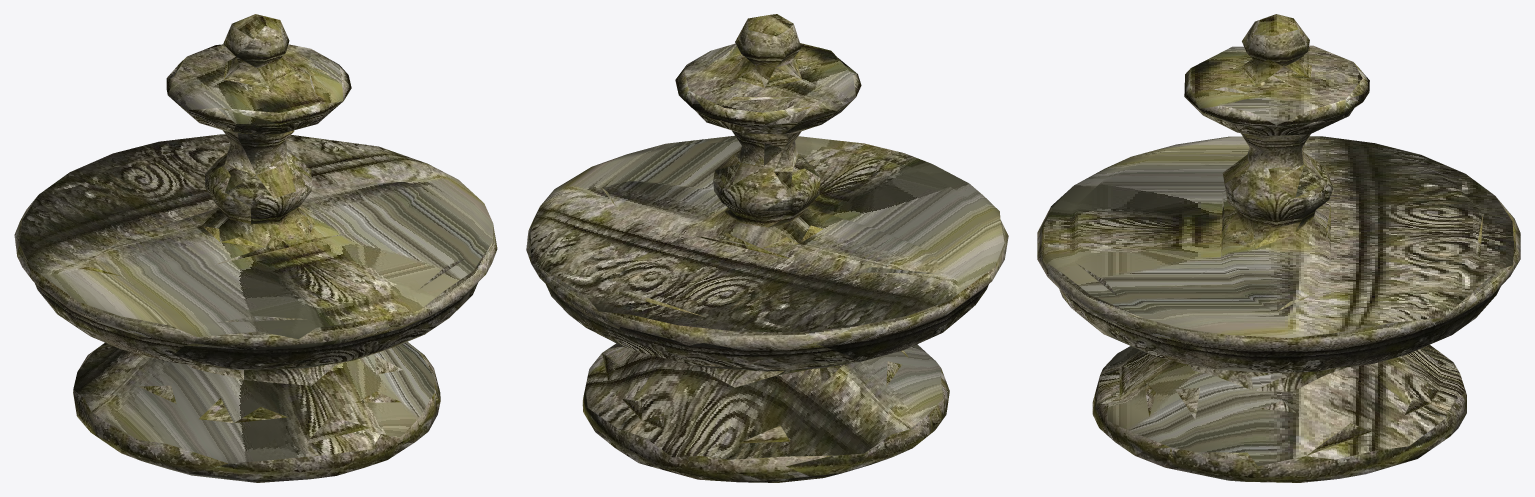
Rendered from fountain_high.glb.
3 views of the same model, side by side, from view 1: azimuth 30°, elevation 25°; view 2: azimuth 150°, elevation 25°; view 3: azimuth 270°, elevation 25° (orthographic).
Parts seen in each view (by area): view 1: fountain_high; view 2: fountain_high; view 3: fountain_high.
Part boxes in pixels (<box>): fountain_high: <box>14,14,497,482</box>; fountain_high: <box>526,14,1008,482</box>; fountain_high: <box>1037,14,1520,482</box>.
Size of the model in its own units: 2.57 by 2.4 by 2.57.
Materials: 1 (1 with a texture image).
